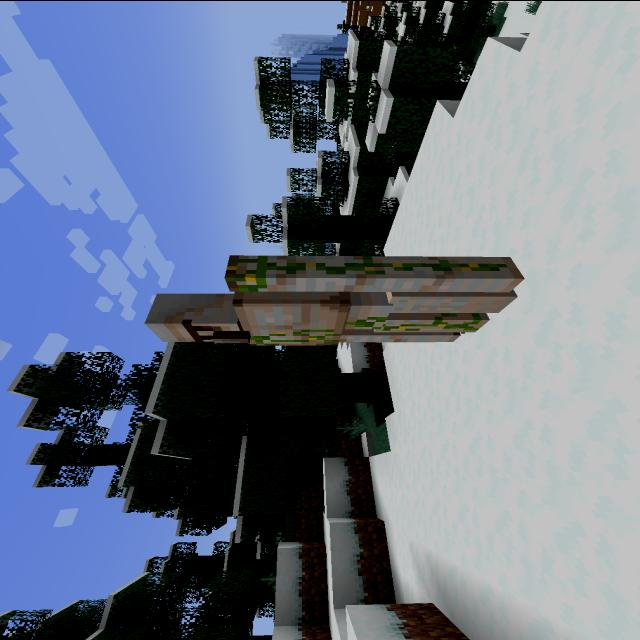iron golem: (131, 243, 541, 361)
